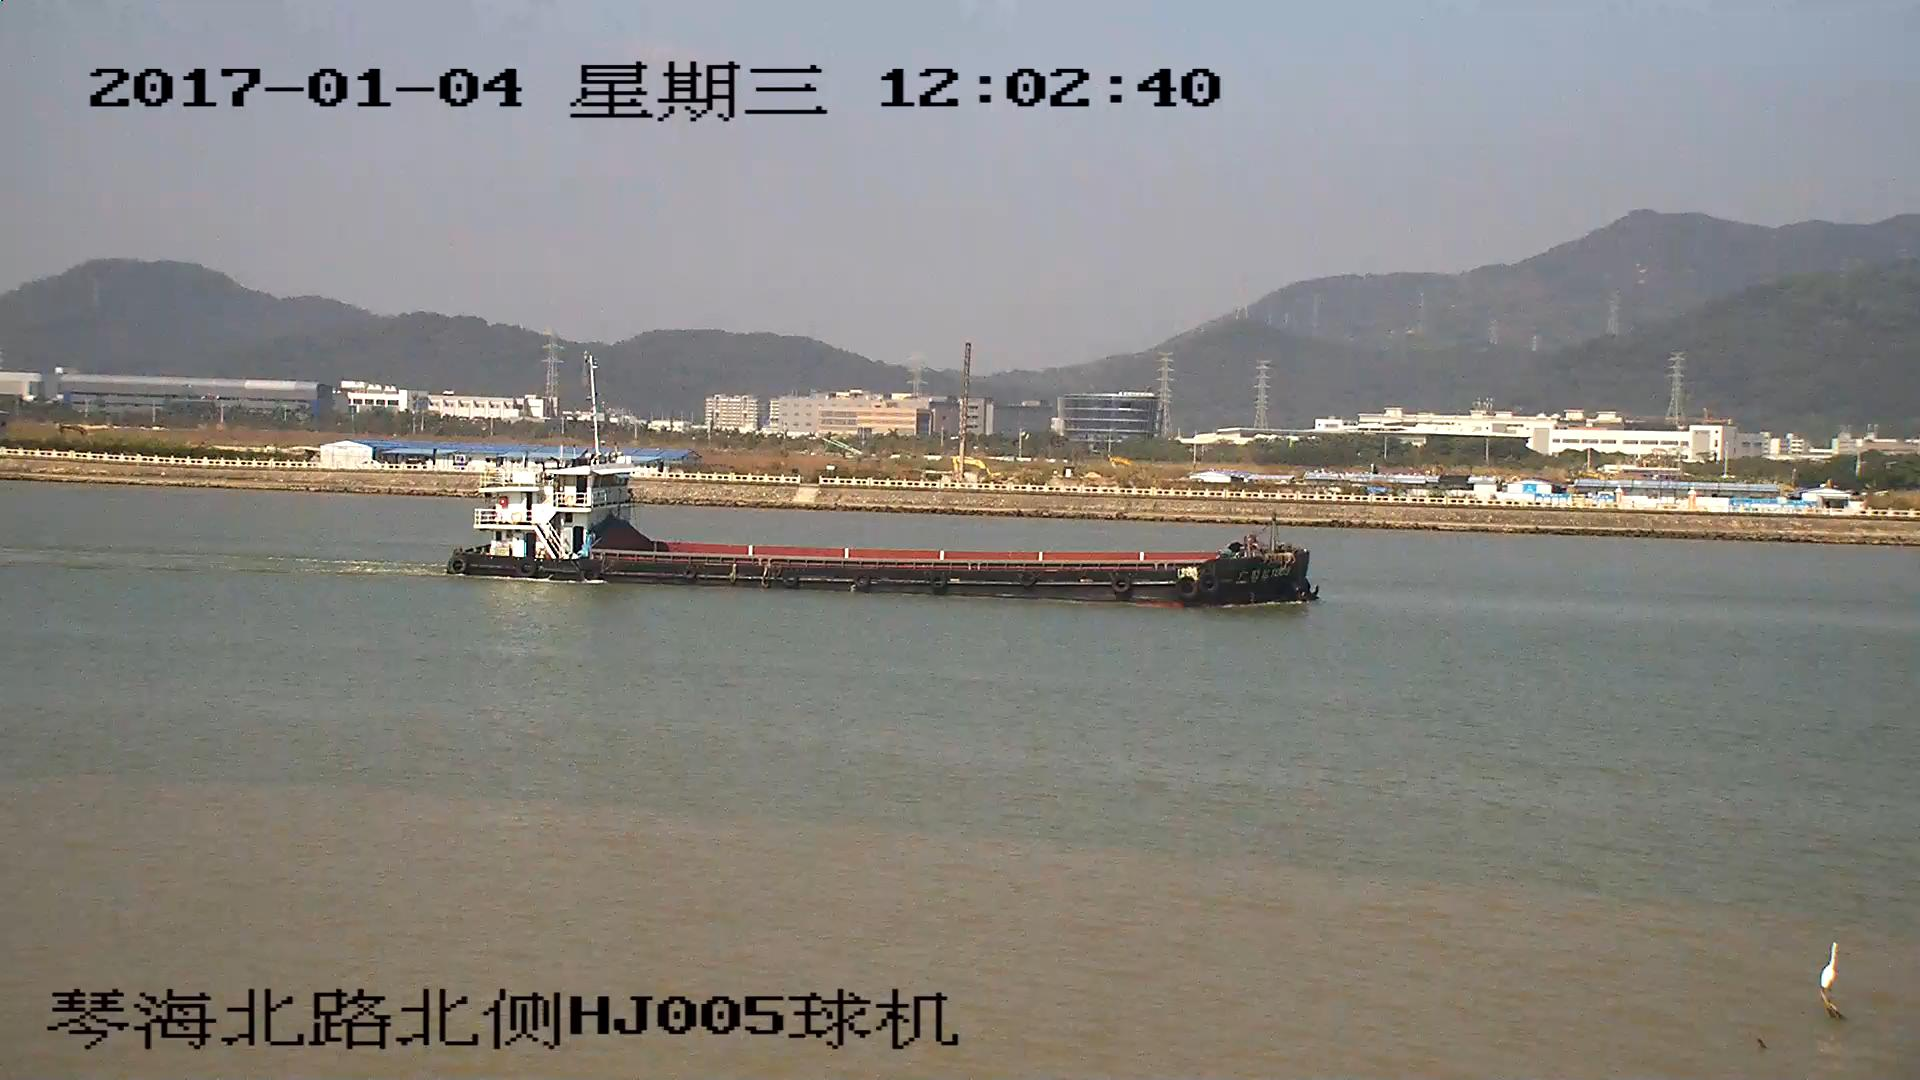general cargo ship: (447, 456, 1320, 604)
